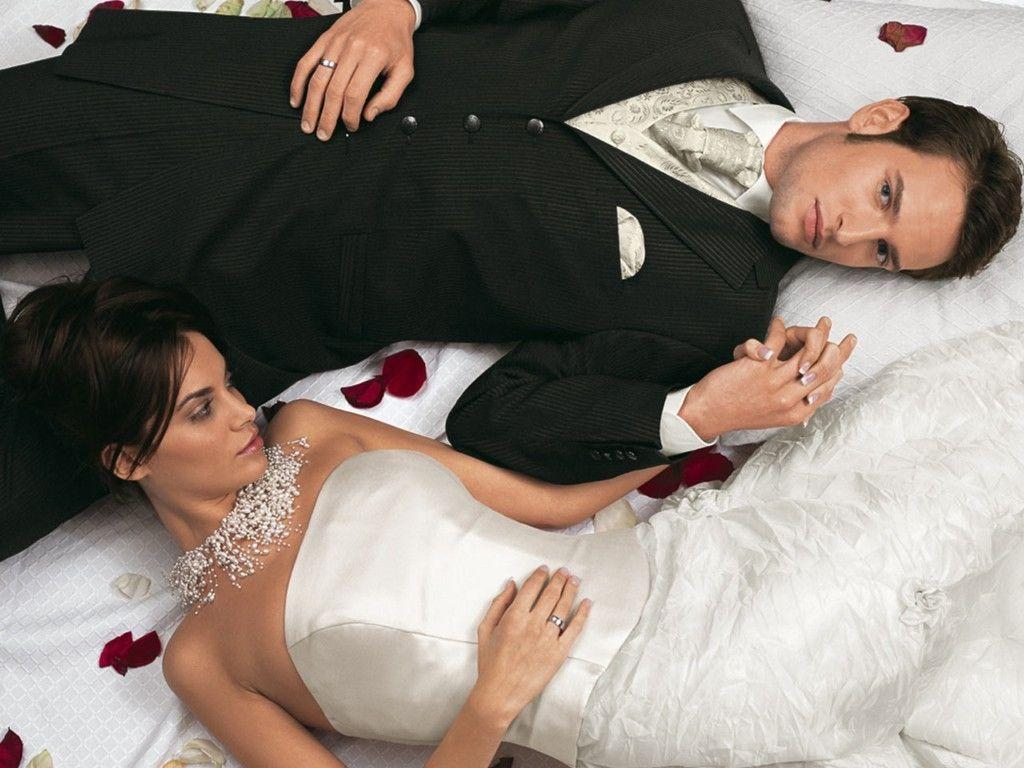face: (770, 158, 970, 272), (148, 334, 272, 484)
